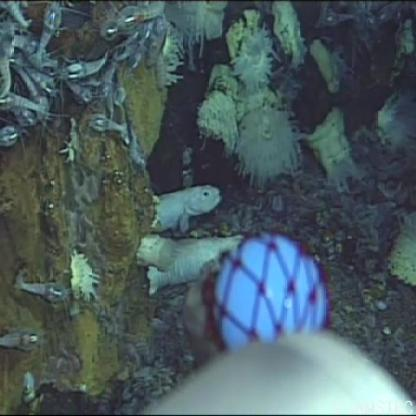Bio: (1, 3, 169, 158), (132, 181, 252, 292)
Rov: (150, 233, 411, 416)
